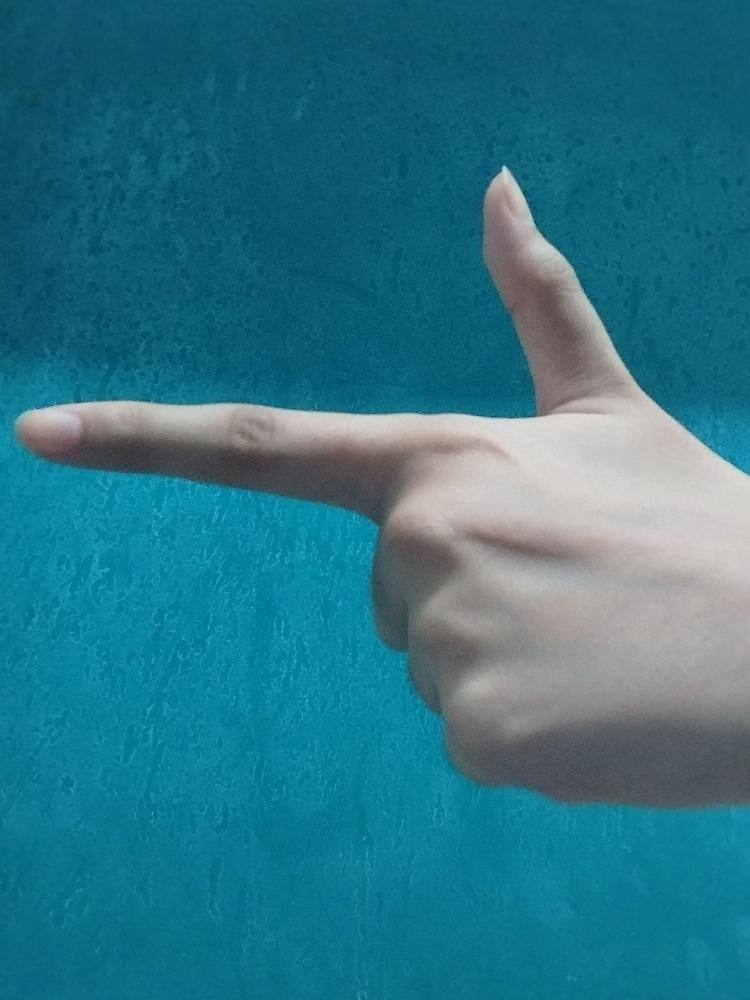g: (11, 153, 749, 814)
